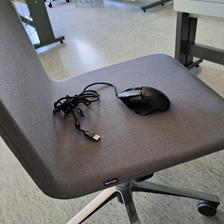mouse: (117, 85, 170, 115)
